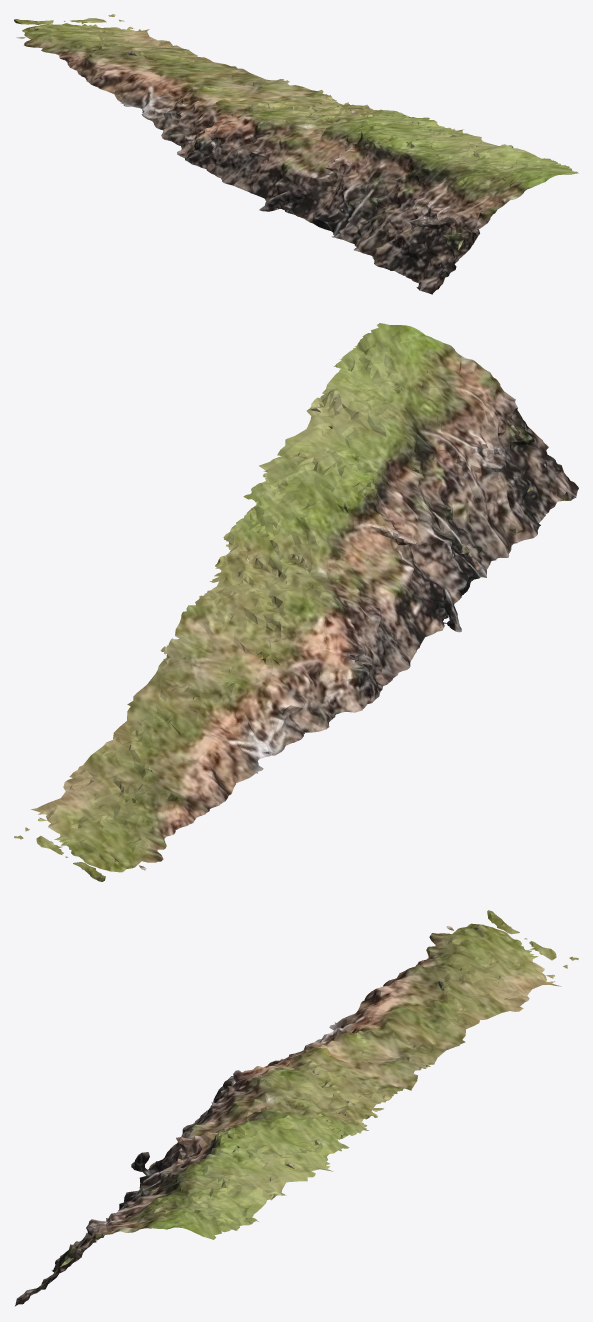
3 views of the same model, one above another, from view 1: azimuth 30°, elevation 25°; view 2: azimuth 150°, elevation 25°; view 3: azimuth 330°, elevation 25° (orthographic). The views are drawn at different scales.
Size of the model in its own units: 2.65 by 1.13 by 8.84.
Materials: 1 (1 with a texture image).
